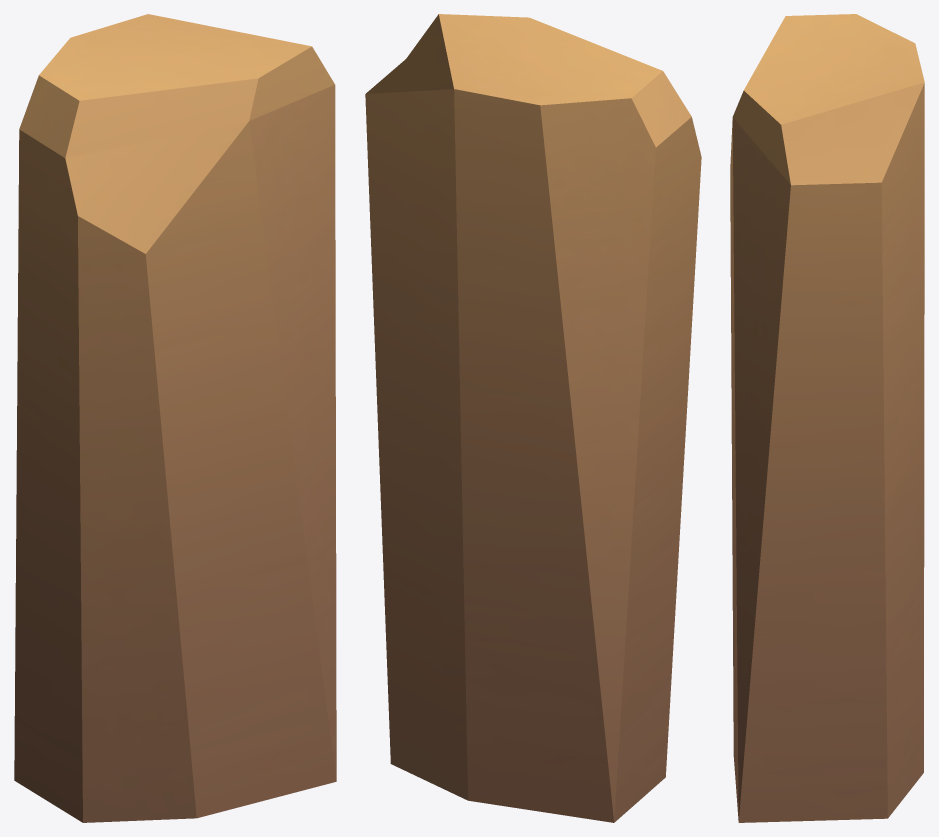
The model's file is tile rock b.fbx.
3 views of the same model, side by side, from view 1: azimuth 30°, elevation 25°; view 2: azimuth 150°, elevation 25°; view 3: azimuth 270°, elevation 25° (orthographic). The views are drawn at different scales.
Visible parts, largest first — view 1: tile_rockb; view 2: tile_rockb; view 3: tile_rockb.
Part boxes in pixels (x1,y1,x2,y2): tile_rockb: [14, 14, 336, 822]; tile_rockb: [365, 14, 701, 822]; tile_rockb: [730, 14, 924, 822].
Size of the model in its own units: 4.25 by 10.26 by 2.6.
Materials: 1 (1 with a texture image).
